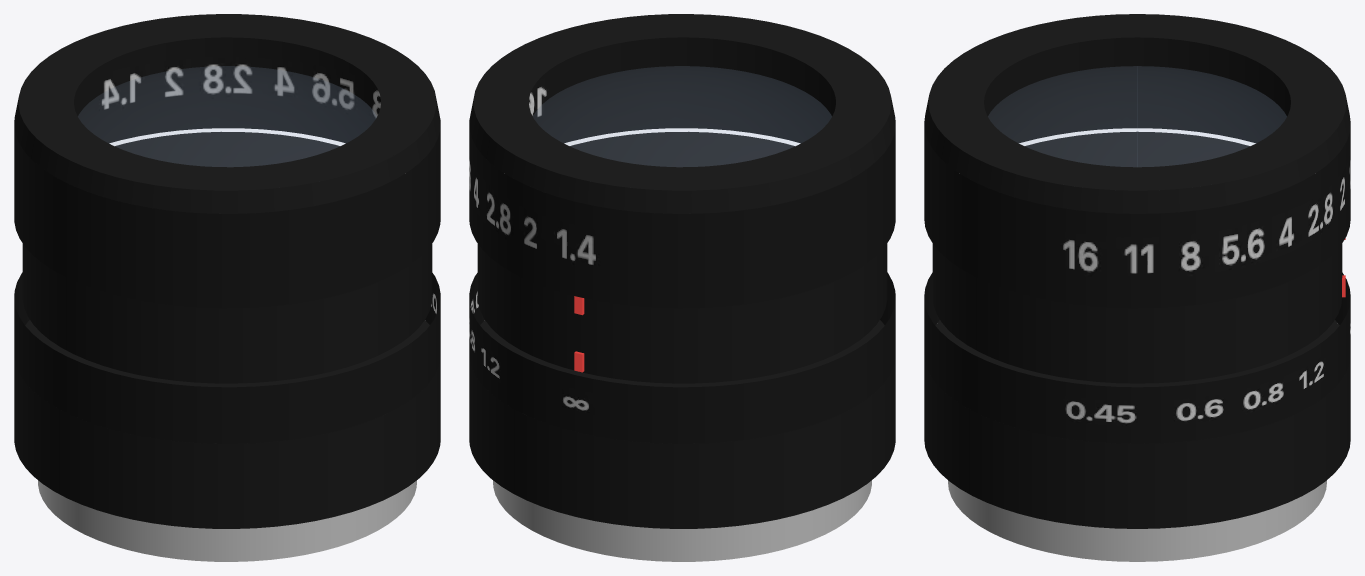
File: lens-m-50-1.4.glb
The picture shows the model from 3 angles, left to right: view 1: azimuth 30°, elevation 25°; view 2: azimuth 150°, elevation 25°; view 3: azimuth 270°, elevation 25°; orthographic projection.
Parts seen in each view (by area): view 1: lens, aperture-ring, focus-ring; view 2: lens, aperture-ring, focus-ring; view 3: lens, aperture-ring, focus-ring.
Part boxes in pixels (left/top/right/bottom): lens: left=14, top=14, right=440, bottom=561; aperture-ring: left=14, top=37, right=440, bottom=308; focus-ring: left=14, top=272, right=440, bottom=528; lens: left=469, top=14, right=895, bottom=561; aperture-ring: left=469, top=37, right=895, bottom=308; focus-ring: left=469, top=272, right=895, bottom=528; lens: left=924, top=14, right=1350, bottom=561; aperture-ring: left=924, top=37, right=1350, bottom=308; focus-ring: left=924, top=272, right=1350, bottom=528.
Size of the model in its own units: 0.054 by 0.0532 by 0.054.
Materials: 6 (2 with a texture image).
